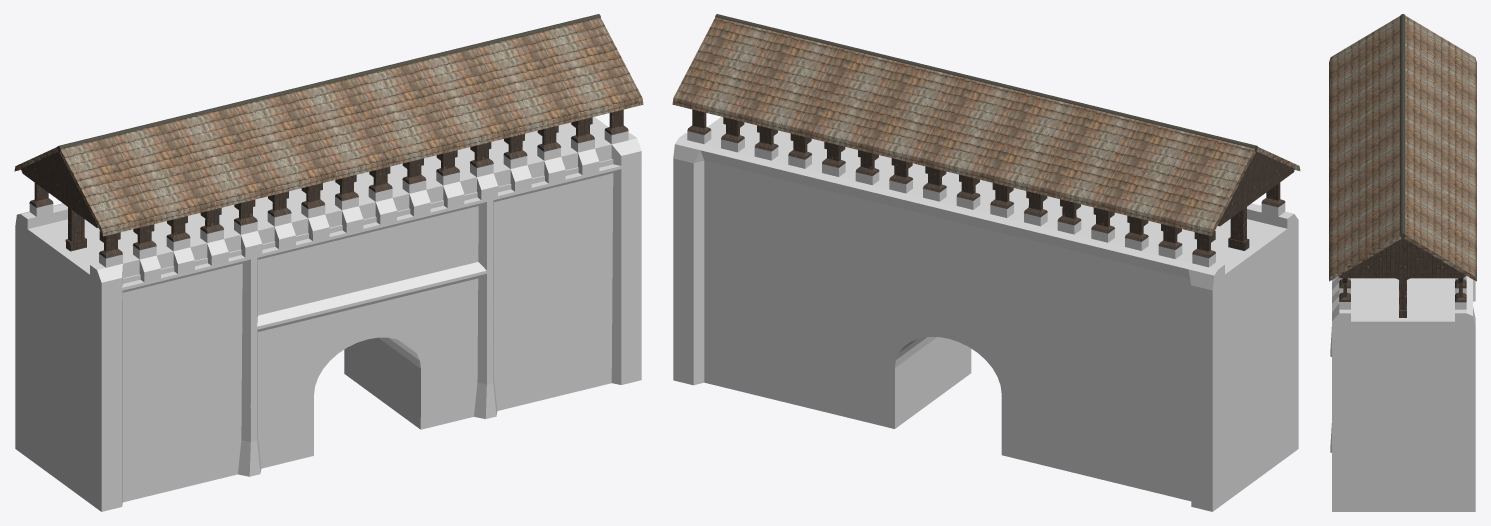
Rendered from CastleWallsRoof-3.fbx.
The picture shows the model from 3 angles, left to right: view 1: azimuth 30°, elevation 25°; view 2: azimuth 150°, elevation 25°; view 3: azimuth 270°, elevation 25°; orthographic projection. The views are drawn at different scales.
Parts seen in each view (by area): view 1: HradbyTypE.004; view 2: HradbyTypE.004; view 3: HradbyTypE.004.
Boxes of the visible parts, <box> form: HradbyTypE.004: <box>14,14,643,511</box>; HradbyTypE.004: <box>672,14,1300,511</box>; HradbyTypE.004: <box>1329,14,1476,511</box>.
Size of the model in its own units: 3875 by 2293 by 1103.
